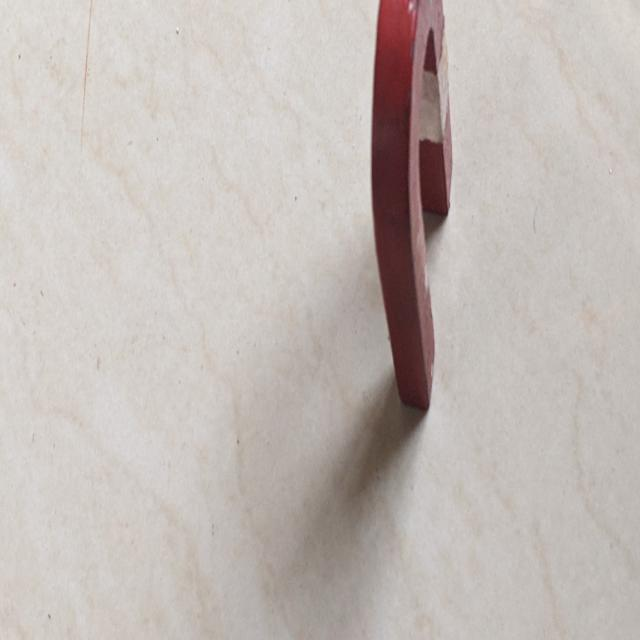Magnet: (357, 0, 462, 422)
